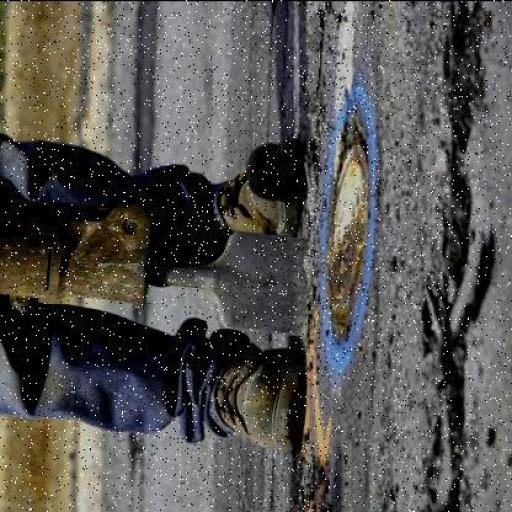safety_shoe: (214, 351, 310, 447), (213, 137, 298, 232)
